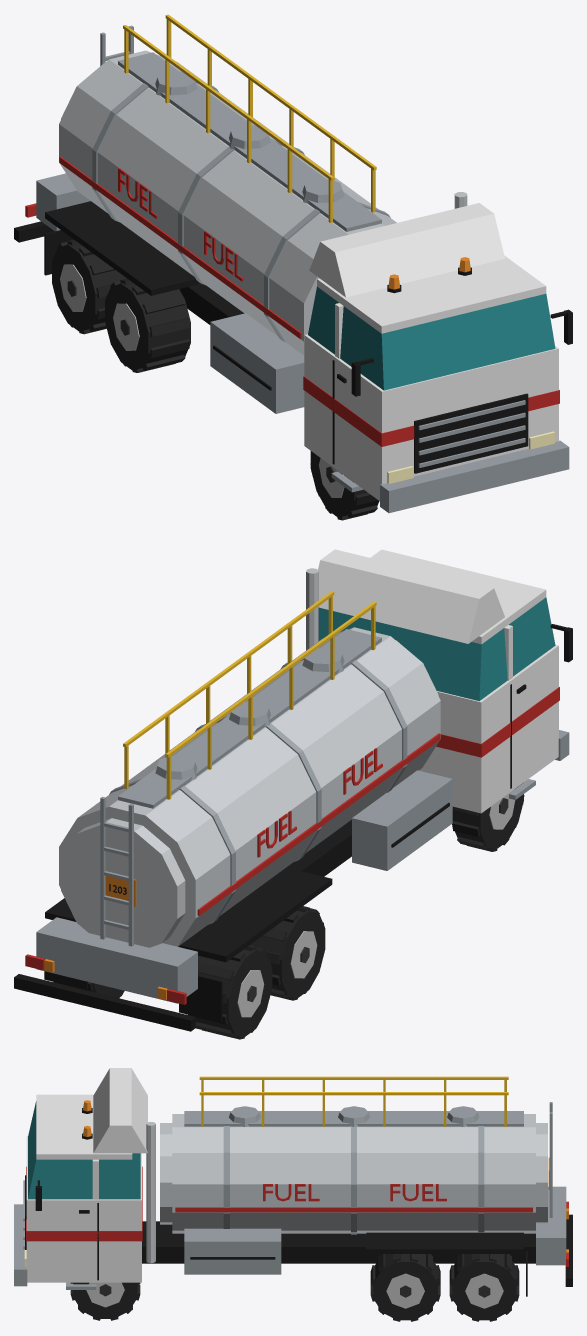
The model's file is Vehicle_FuelTanker.fbx.
3 views of the same model, one above another, from view 1: azimuth 30°, elevation 25°; view 2: azimuth 150°, elevation 25°; view 3: azimuth 270°, elevation 25° (orthographic). The views are drawn at different scales.
Parts seen in each view (by area): view 1: Vehicle_FuelTanker, Vehicle_FuelTanker_Wheel_R1R, Vehicle_FuelTanker_Wheel_R2R, Vehicle_FuelTanker_Wheel_FR; view 2: Vehicle_FuelTanker, Vehicle_FuelTanker_Wheel_R2R, Vehicle_FuelTanker_Wheel_R1R, Vehicle_FuelTanker_Wheel_FR; view 3: Vehicle_FuelTanker, Vehicle_FuelTanker_Wheel_R1L, Vehicle_FuelTanker_Wheel_R2L, Vehicle_FuelTanker_Wheel_FL.
Boxes of the visible parts, left/top/right/bottom form: Vehicle_FuelTanker: left=14, top=14, right=572, bottom=513; Vehicle_FuelTanker_Wheel_R1R: left=105, top=278, right=190, bottom=372; Vehicle_FuelTanker_Wheel_R2R: left=52, top=239, right=126, bottom=334; Vehicle_FuelTanker_Wheel_FR: left=310, top=451, right=379, bottom=520; Vehicle_FuelTanker: left=14, top=549, right=572, bottom=1031; Vehicle_FuelTanker_Wheel_R2R: left=188, top=945, right=272, bottom=1039; Vehicle_FuelTanker_Wheel_R1R: left=250, top=906, right=325, bottom=1000; Vehicle_FuelTanker_Wheel_FR: left=452, top=782, right=524, bottom=851; Vehicle_FuelTanker: left=14, top=1068, right=572, bottom=1296; Vehicle_FuelTanker_Wheel_R1L: left=370, top=1254, right=440, bottom=1321; Vehicle_FuelTanker_Wheel_R2L: left=449, top=1254, right=519, bottom=1321; Vehicle_FuelTanker_Wheel_FL: left=70, top=1282, right=140, bottom=1320.
Bounding box in the file's own units: 3.07 × 3.75 × 9.22.
